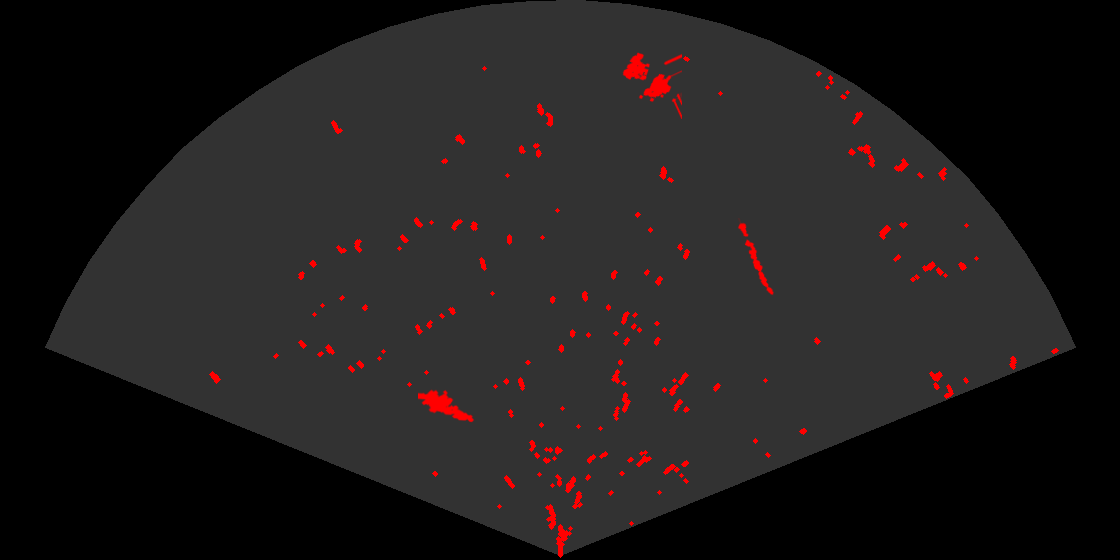cage: (621, 51, 682, 119)
chain: (736, 218, 775, 298)
frogman: (418, 388, 476, 424)
